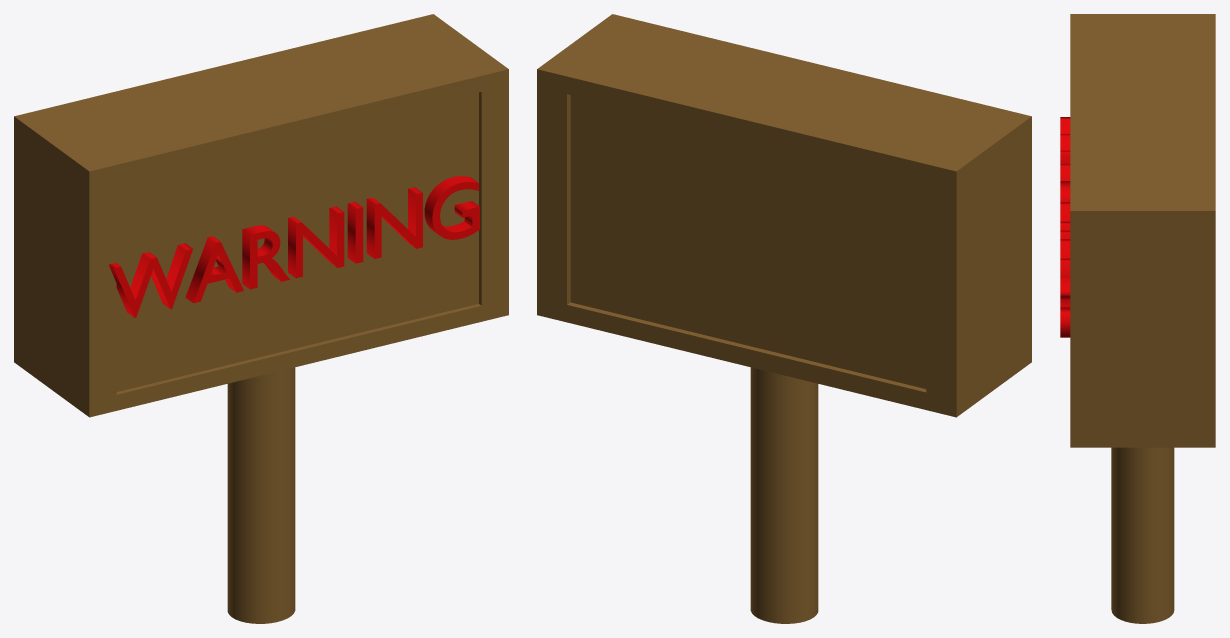
Rendered from WarningSign.fbx.
The picture shows the model from 3 angles, left to right: view 1: azimuth 30°, elevation 25°; view 2: azimuth 150°, elevation 25°; view 3: azimuth 270°, elevation 25°; orthographic projection. The views are drawn at different scales.
Parts seen in each view (by area): view 1: Cube, Cylinder, Text; view 2: Cube, Cylinder; view 3: Cube, Cylinder, Text.
Part boxes in pixels (x1,y1,x2,y2): Cube: [14, 14, 508, 417]; Cylinder: [227, 367, 295, 623]; Text: [109, 176, 479, 317]; Cube: [537, 14, 1031, 417]; Cylinder: [750, 367, 818, 623]; Cube: [1070, 14, 1215, 447]; Cylinder: [1111, 447, 1174, 623]; Text: [1060, 117, 1070, 337].
Bounding box in the file's own units: 320 × 378 × 107.
